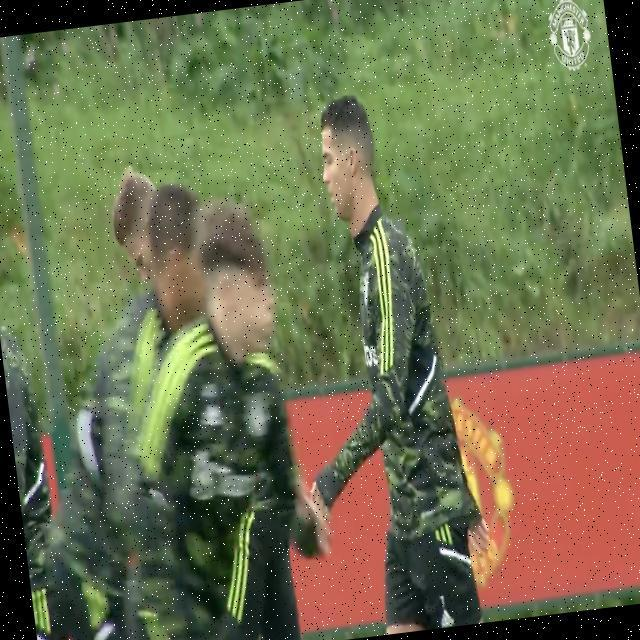Adidas: (437, 608, 456, 628)
